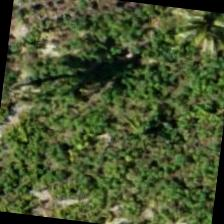Kelapa_Sawit: (0, 41, 56, 137), (170, 7, 223, 75)
